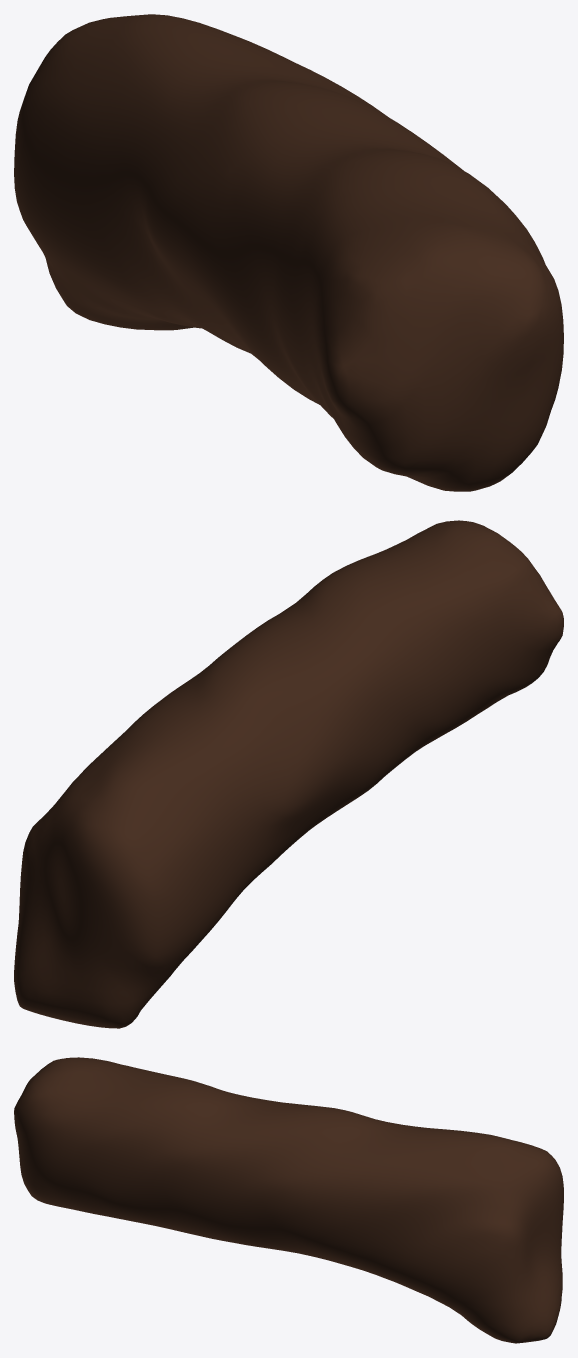
The model's file is brachiocephalic trunk.obj.
3 renders of one model, top to bottom at view 1: azimuth 30°, elevation 25°; view 2: azimuth 150°, elevation 25°; view 3: azimuth 270°, elevation 25°, orthographic. The views are drawn at different scales.
Parts seen in each view (by area): view 1: grp1; view 2: grp1; view 3: grp1.
Boxes of the visible parts, bbox=[...] form: grp1: bbox=[14, 14, 563, 491]; grp1: bbox=[14, 520, 563, 1028]; grp1: bbox=[14, 1057, 563, 1343].
Bounding box in the file's own units: 17.83 × 19.54 × 42.43.
